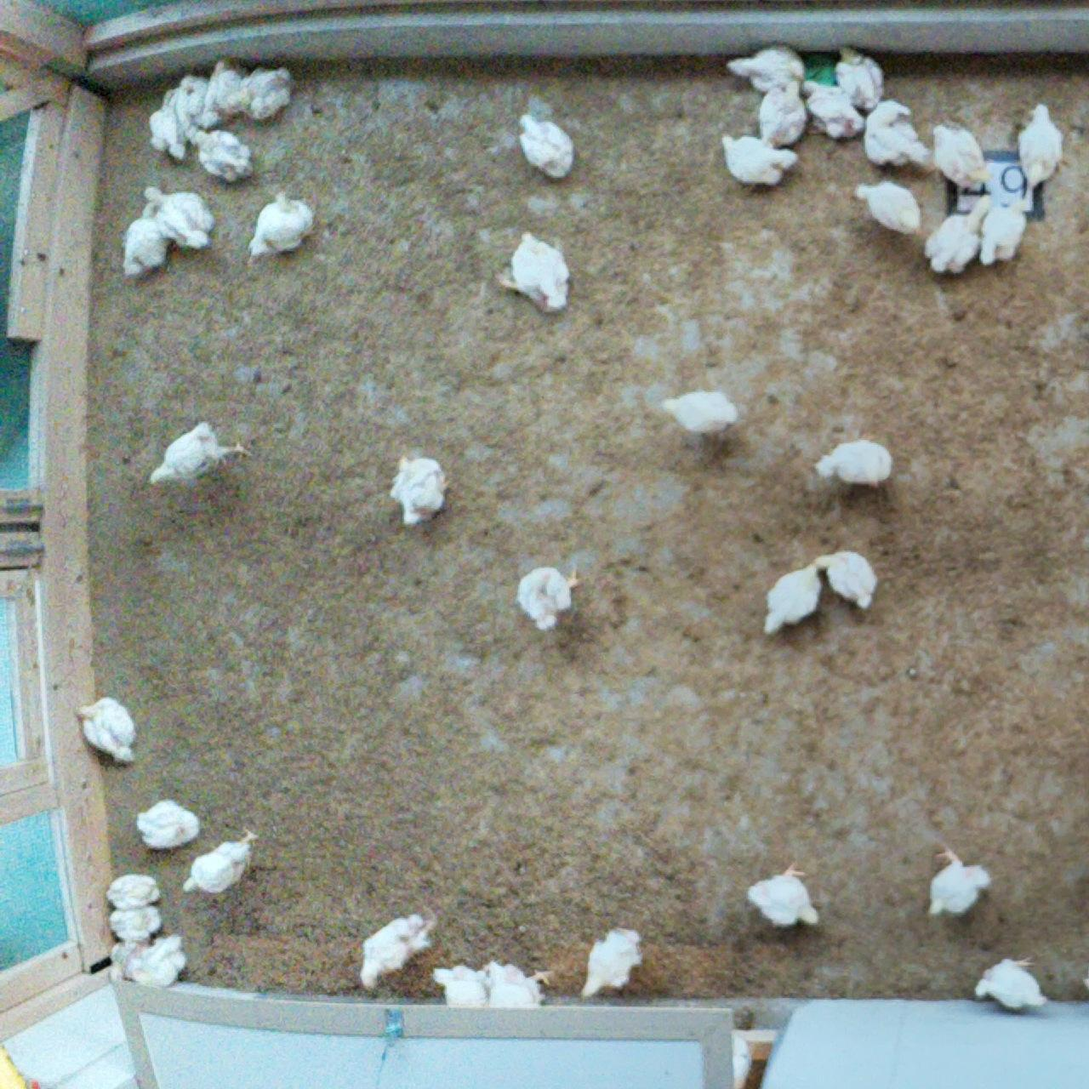chicken: (355, 901, 444, 995), (148, 416, 255, 492), (496, 226, 580, 311), (914, 837, 995, 923), (740, 857, 827, 935), (921, 189, 994, 279), (511, 105, 586, 191), (578, 918, 651, 1005), (927, 113, 1000, 198), (858, 87, 931, 172), (509, 553, 583, 635), (179, 825, 263, 896), (714, 122, 803, 189), (243, 185, 321, 261), (1008, 96, 1069, 192), (970, 951, 1061, 1015), (71, 690, 143, 770), (757, 562, 825, 644), (810, 432, 901, 493), (387, 450, 453, 532), (810, 545, 886, 616), (141, 182, 219, 251), (113, 198, 177, 279), (722, 38, 812, 93), (658, 381, 742, 439), (830, 33, 889, 115), (852, 175, 927, 239), (227, 57, 297, 123), (128, 793, 205, 852), (978, 192, 1034, 271), (475, 959, 557, 1010), (801, 74, 864, 139), (192, 124, 262, 182), (145, 81, 194, 162), (753, 76, 807, 148), (100, 865, 165, 911), (105, 902, 171, 947), (201, 56, 244, 125), (430, 958, 489, 1008), (143, 932, 190, 985), (171, 72, 208, 139), (104, 936, 146, 988)
